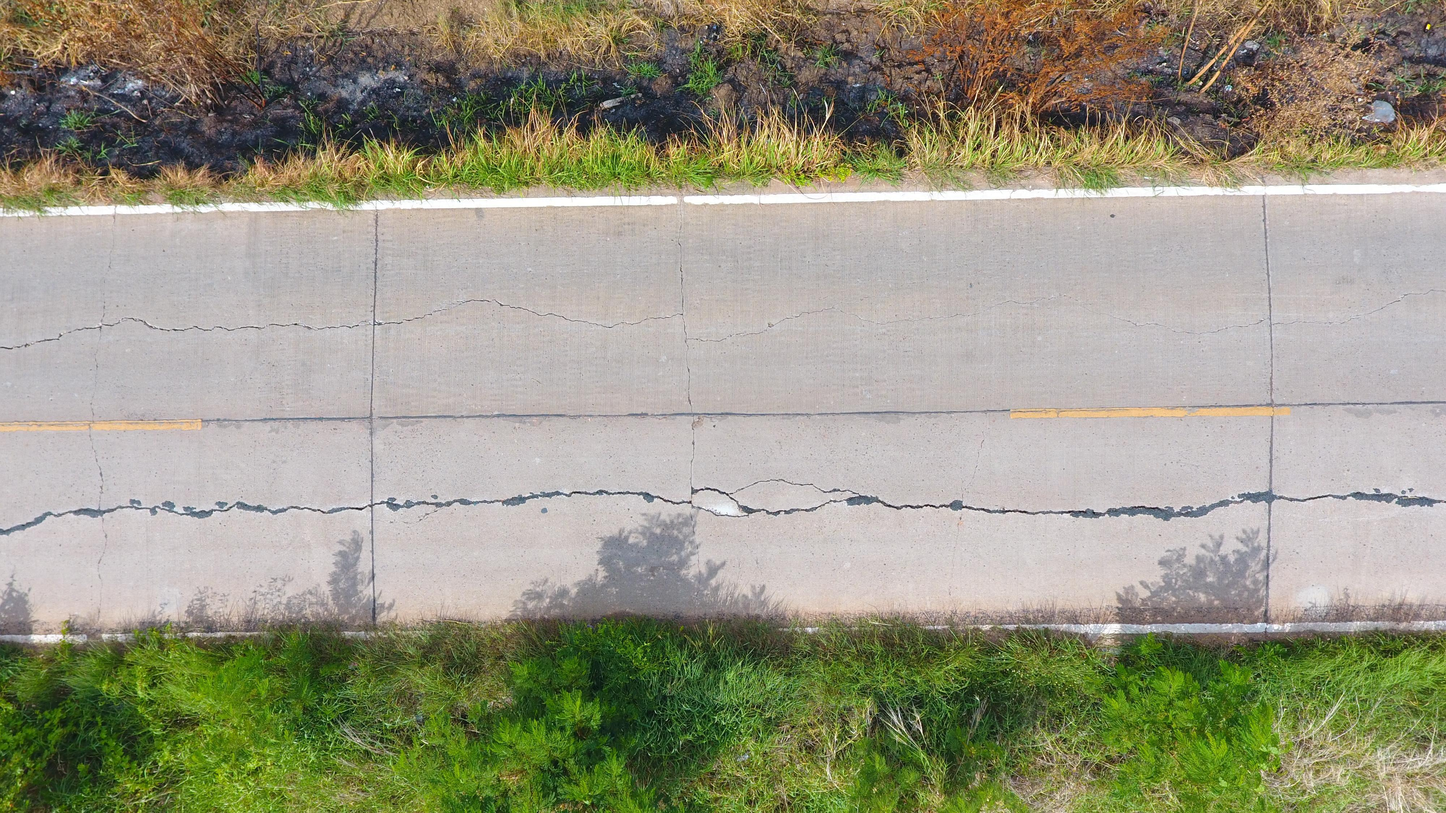GRIETA: (878, 490, 1269, 520), (376, 298, 682, 329), (839, 295, 1080, 326), (373, 490, 692, 512), (88, 293, 108, 621), (1272, 289, 1446, 326), (1080, 305, 1269, 335), (691, 488, 878, 516), (102, 502, 371, 519), (102, 317, 359, 332), (0, 508, 98, 535), (1013, 403, 1272, 413), (694, 409, 1011, 417), (746, 307, 834, 335), (0, 326, 102, 350), (1273, 492, 1446, 506), (1263, 195, 1274, 407), (1264, 415, 1275, 623), (728, 479, 861, 496), (373, 413, 693, 420), (370, 421, 376, 624), (678, 214, 687, 338), (1274, 401, 1446, 407), (690, 515, 702, 599), (104, 215, 116, 277), (692, 505, 749, 518), (203, 417, 372, 421), (0, 420, 91, 427), (684, 340, 692, 412), (373, 210, 378, 325), (687, 332, 744, 342), (96, 419, 202, 424), (370, 328, 375, 416), (690, 416, 695, 491)
